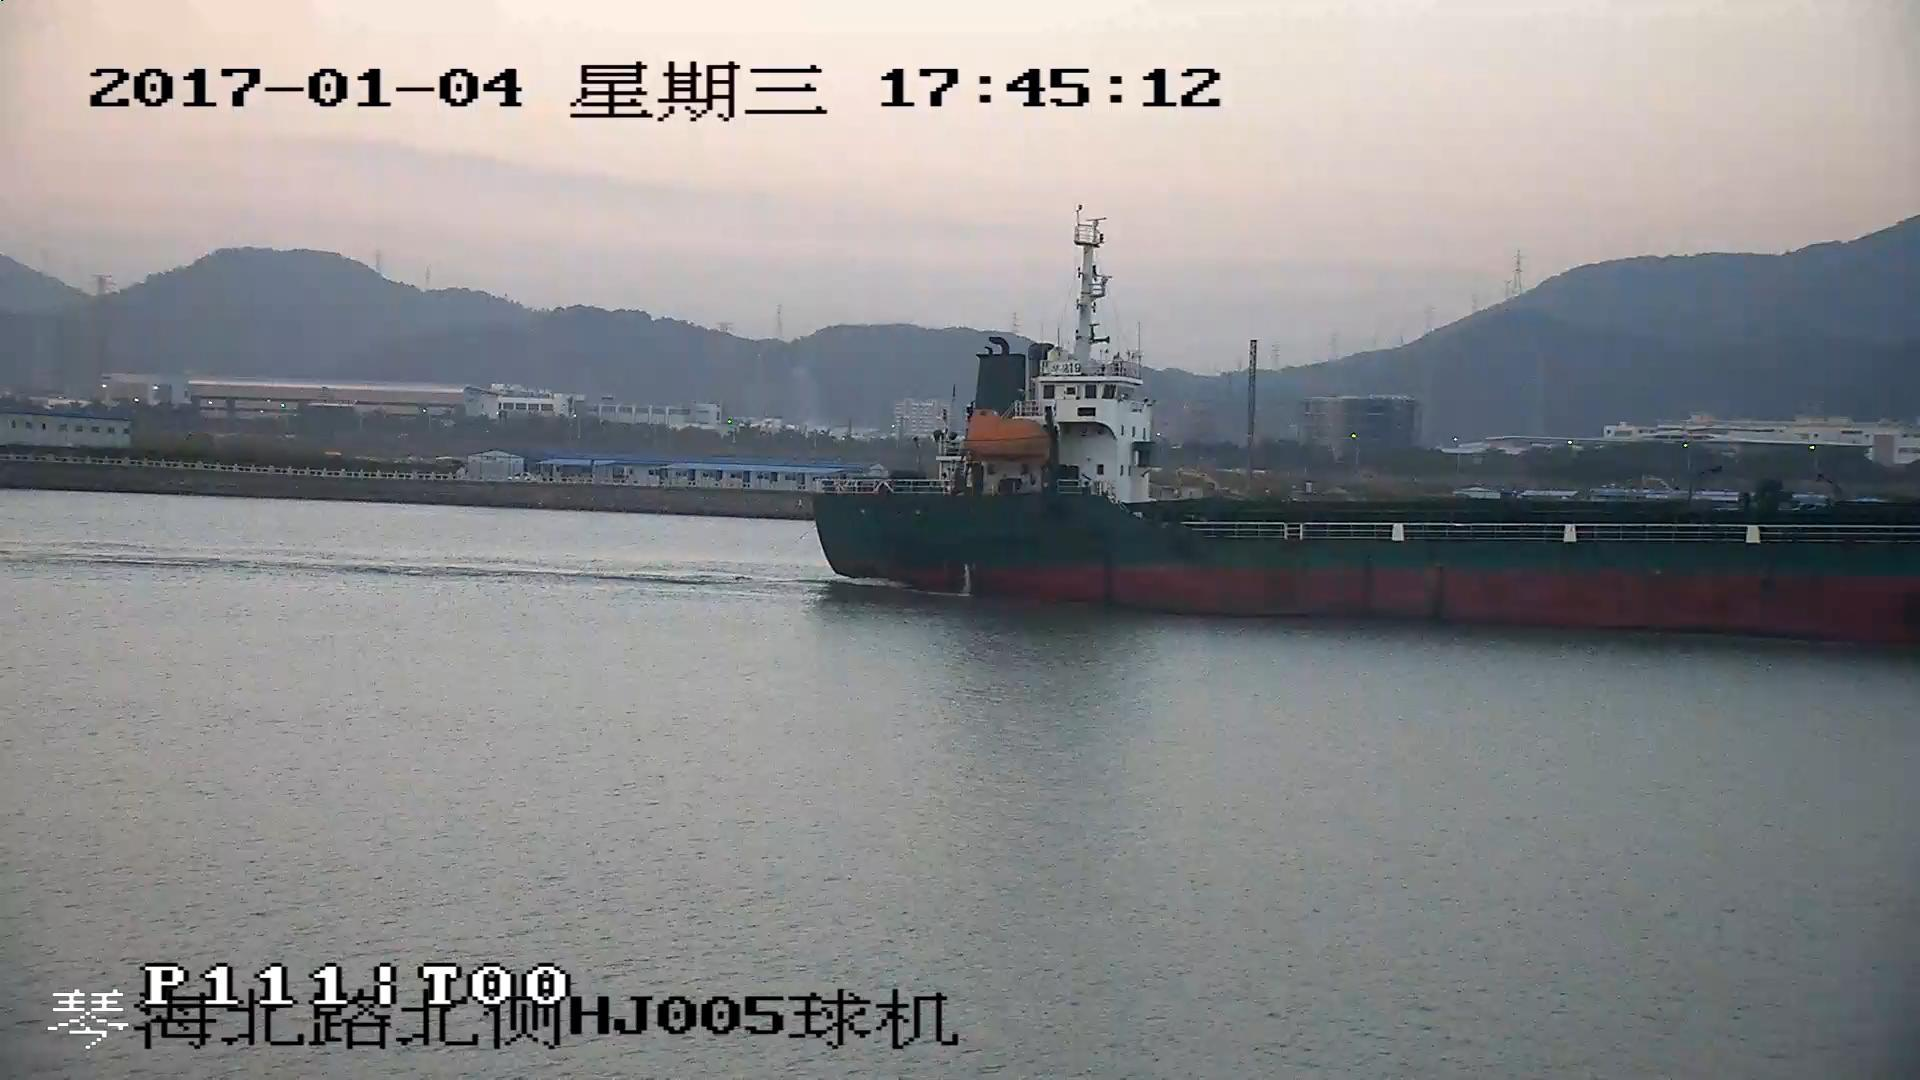Ship: (807, 207, 1920, 637)
